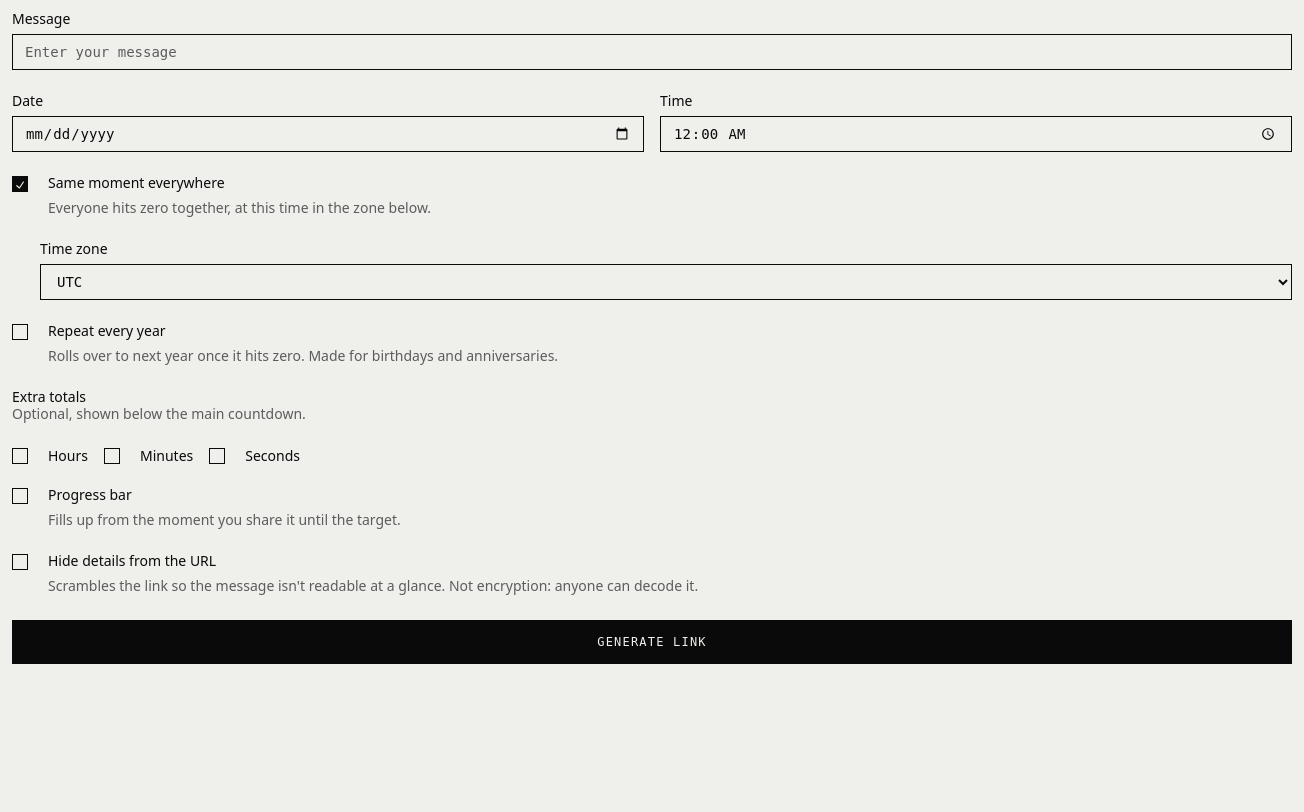
it: InputForm › should ask for a date before generating
The width and height of the screenshot is (1304, 812).
Click the button "Generate link" at [652, 642], box [12,620,1292,664]
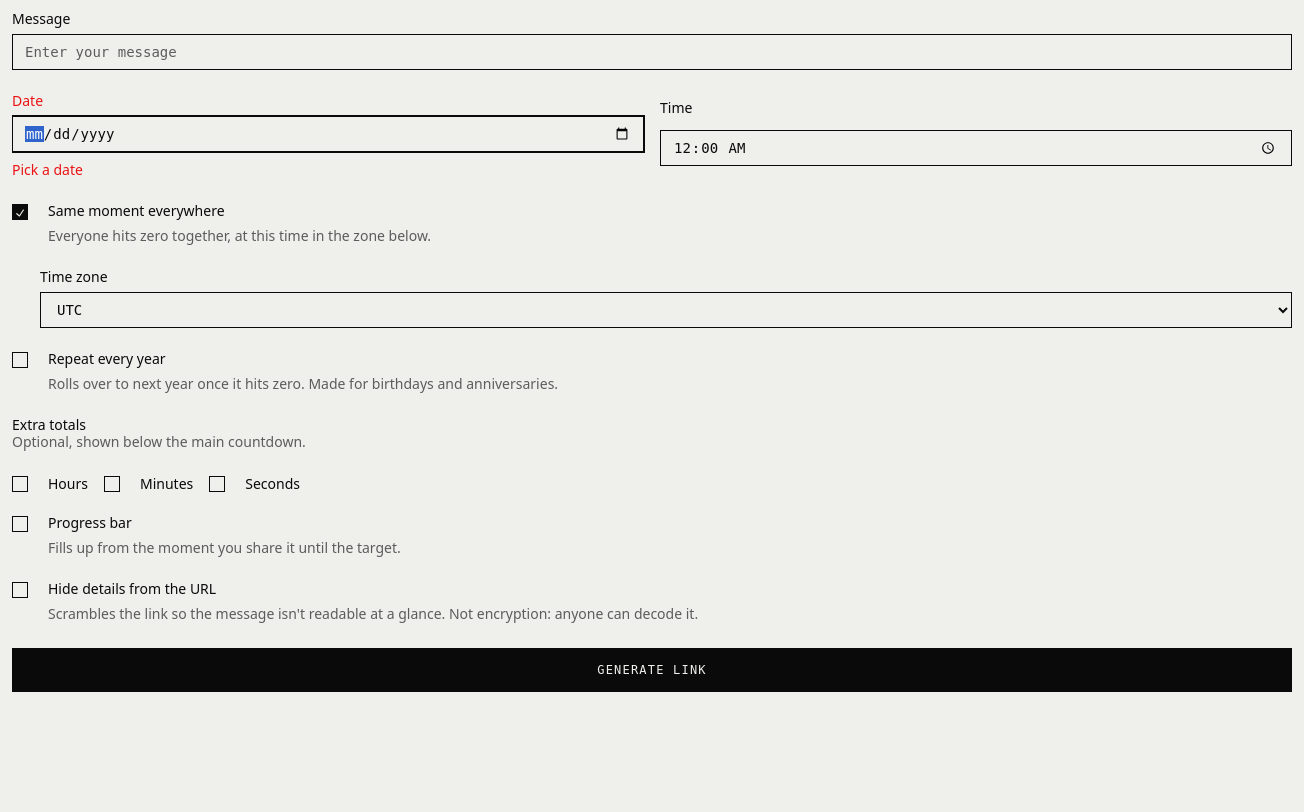
Now the text "Pick a date" is shown, box [12,160,83,179]
